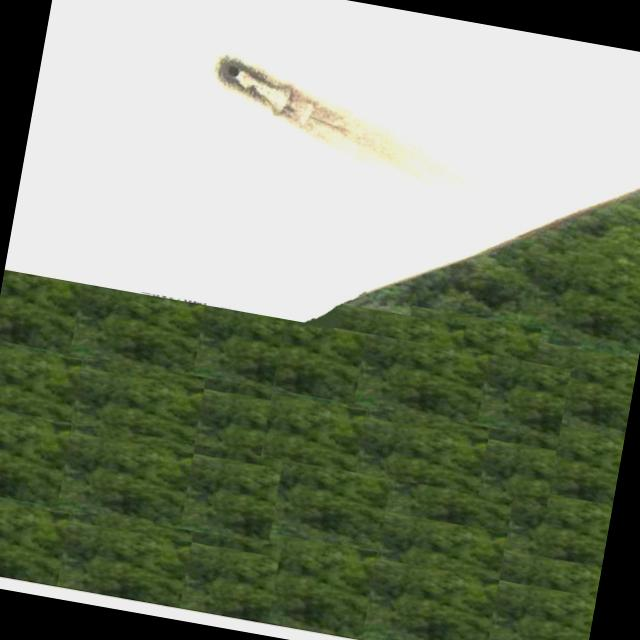crack: (196, 42, 428, 189)
